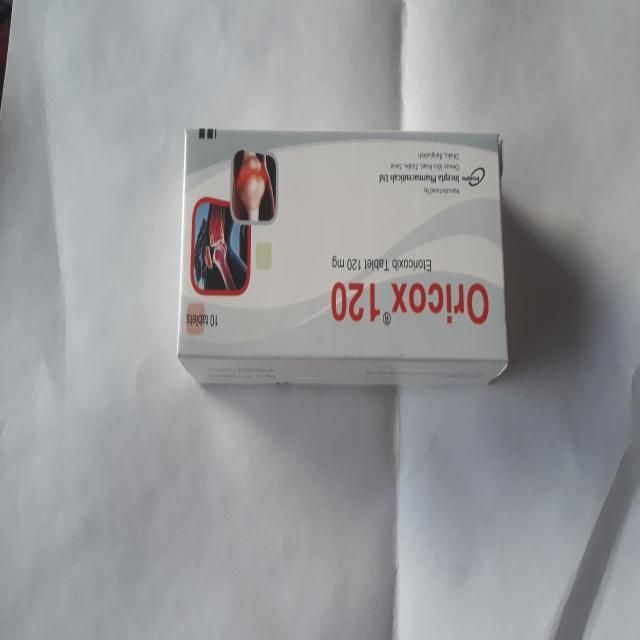drug-name: (330, 275, 492, 336)
